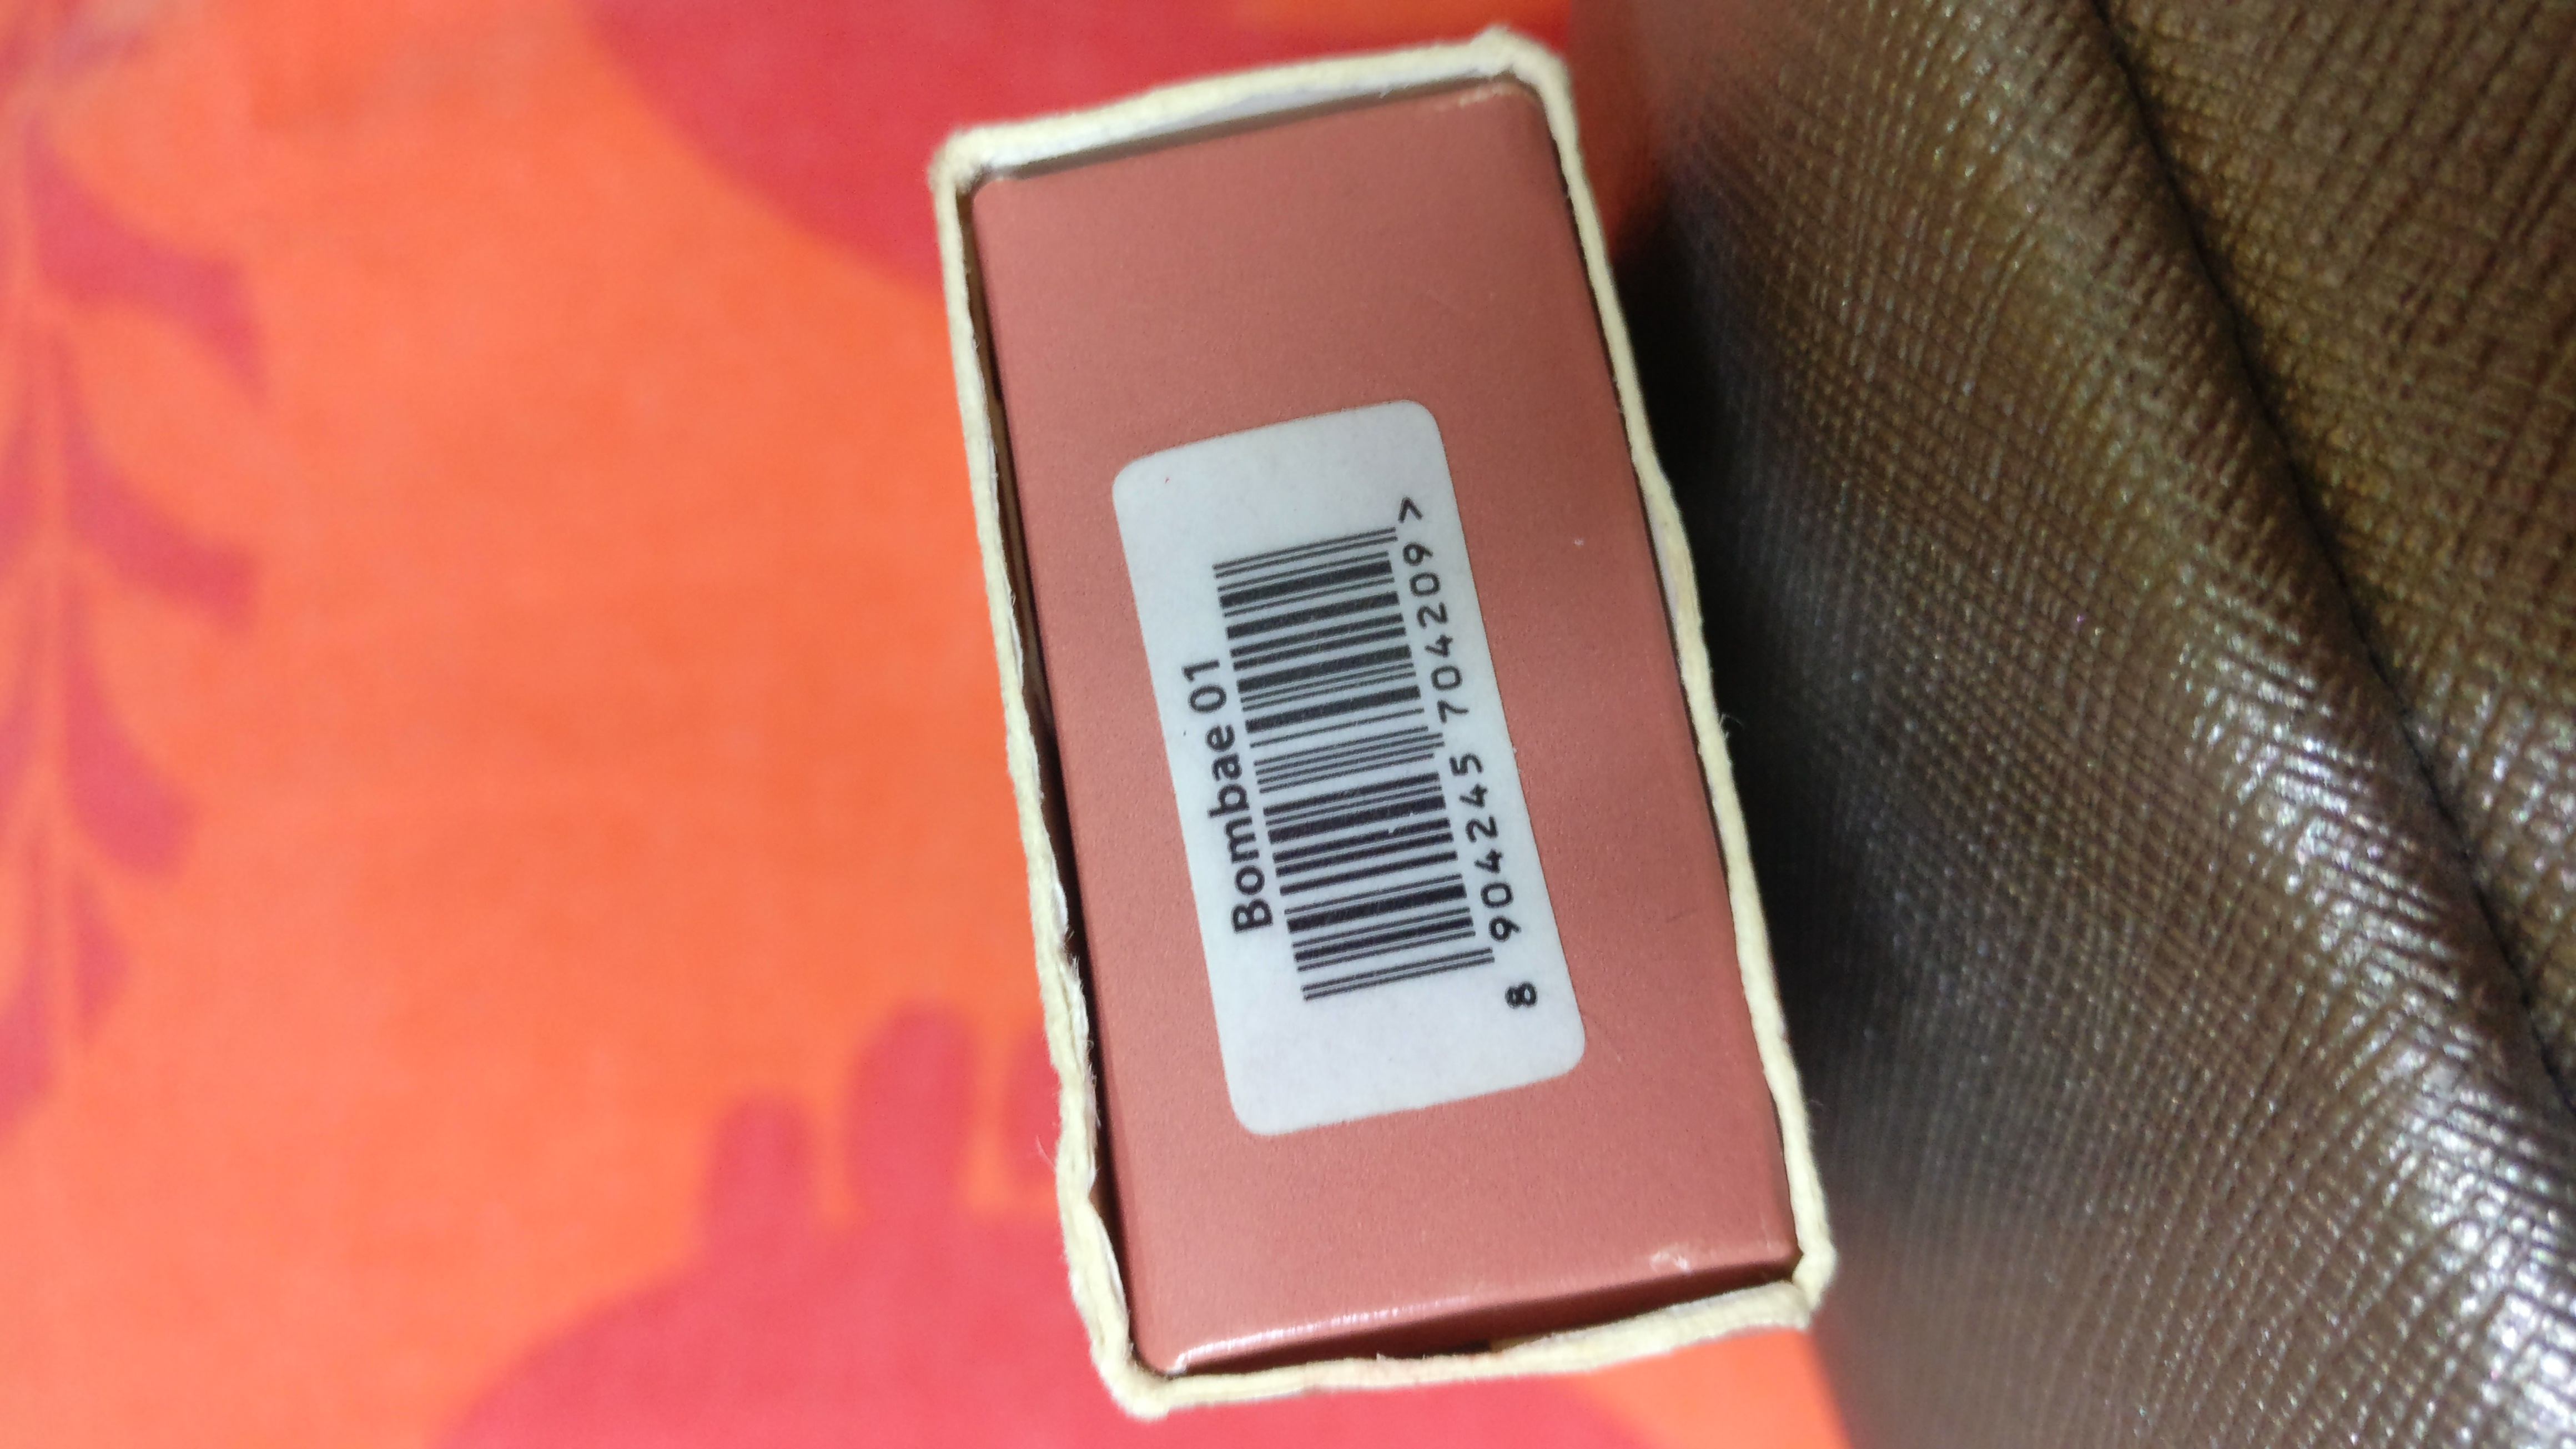barcode: (1180, 487, 1546, 1035)
